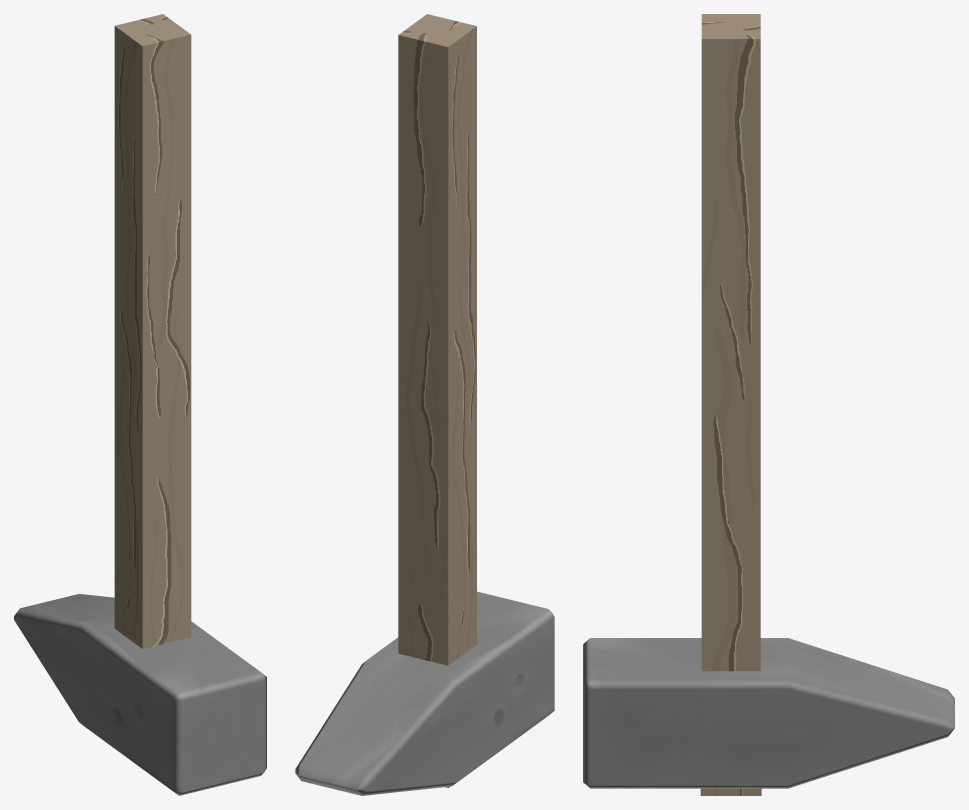
The model's file is hammer.fbx.
The picture shows the model from 3 angles, left to right: view 1: azimuth 30°, elevation 25°; view 2: azimuth 150°, elevation 25°; view 3: azimuth 270°, elevation 25°; orthographic projection. The views are drawn at different scales.
Visible parts, largest first — view 1: hammer; view 2: hammer; view 3: hammer.
Part boxes in pixels (<box>): hammer: <box>14,14,266,795</box>; hammer: <box>295,14,554,795</box>; hammer: <box>583,14,954,795</box>.
Bounding box in the file's own units: 27.58 × 203 × 90.29.
